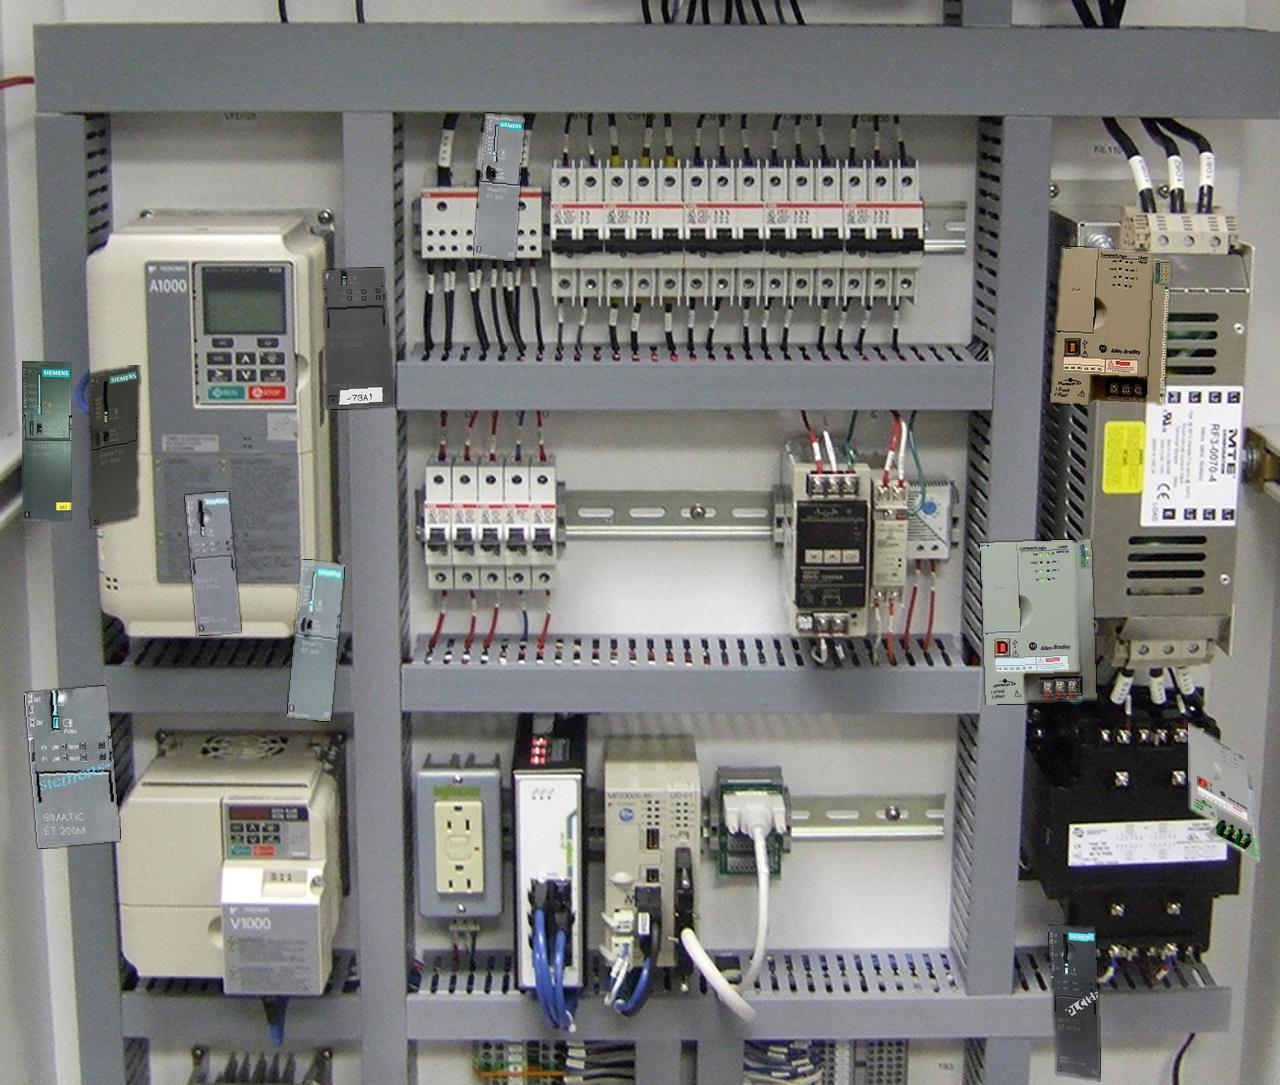AllenBradley: (980, 540, 1096, 704), (1050, 246, 1169, 404), (1188, 723, 1258, 861)
Siemens: (287, 560, 344, 721), (88, 365, 139, 529), (22, 361, 71, 521), (474, 113, 524, 260)
